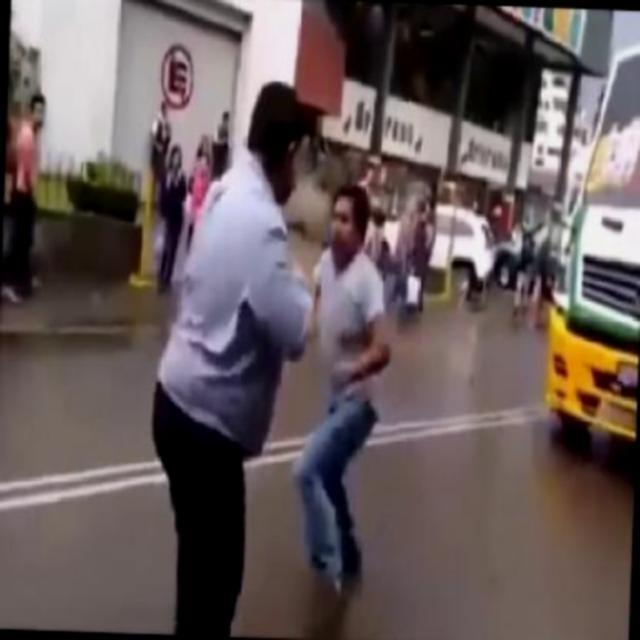fight: (143, 74, 406, 638)
